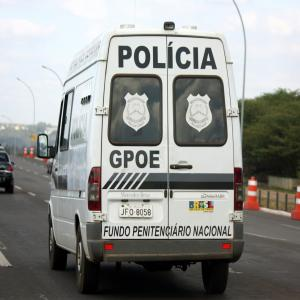Vehicle-registration-plate: (120, 203, 154, 219)
